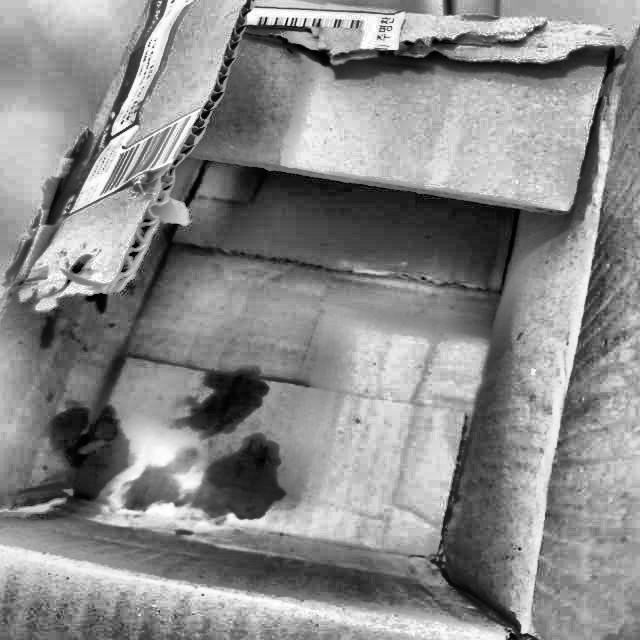box: (0, 0, 639, 639)
wet: (40, 364, 293, 532)
